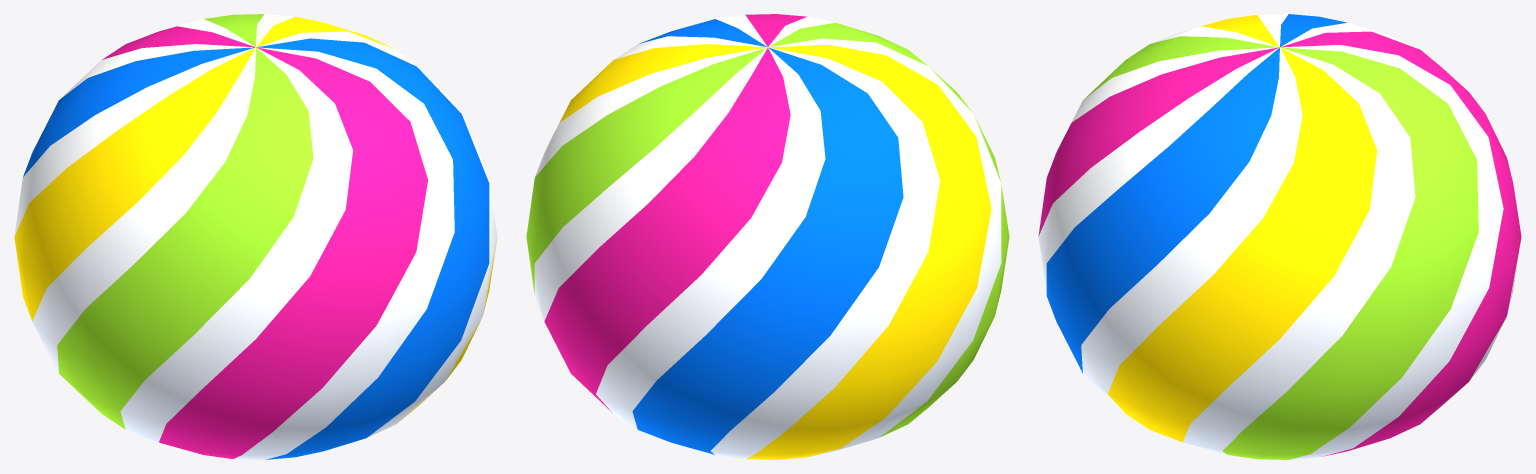
Rendered from Lollipop_08.glb.
The picture shows the model from 3 angles, left to right: view 1: azimuth 30°, elevation 25°; view 2: azimuth 150°, elevation 25°; view 3: azimuth 270°, elevation 25°; orthographic projection.
Parts seen in each view (by area): view 1: Lollipop_08; view 2: Lollipop_08; view 3: Lollipop_08.
Part boxes in pixels (x1,y1,x2,y2): Lollipop_08: (14,14,497,459); Lollipop_08: (526,14,1009,459); Lollipop_08: (1038,14,1521,459).
Size of the model in its own units: 2.1 by 1.82 by 2.1.
1 material, 1 textured.
